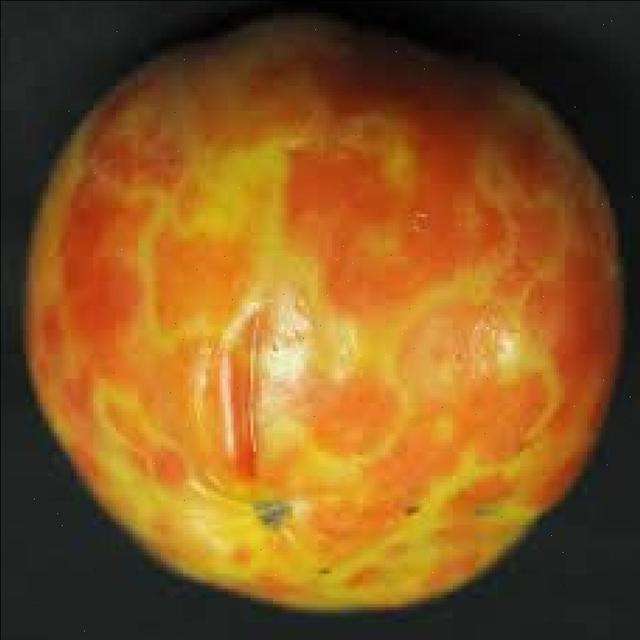Spotted wilt Virus Fruit: (44, 9, 72, 129)
